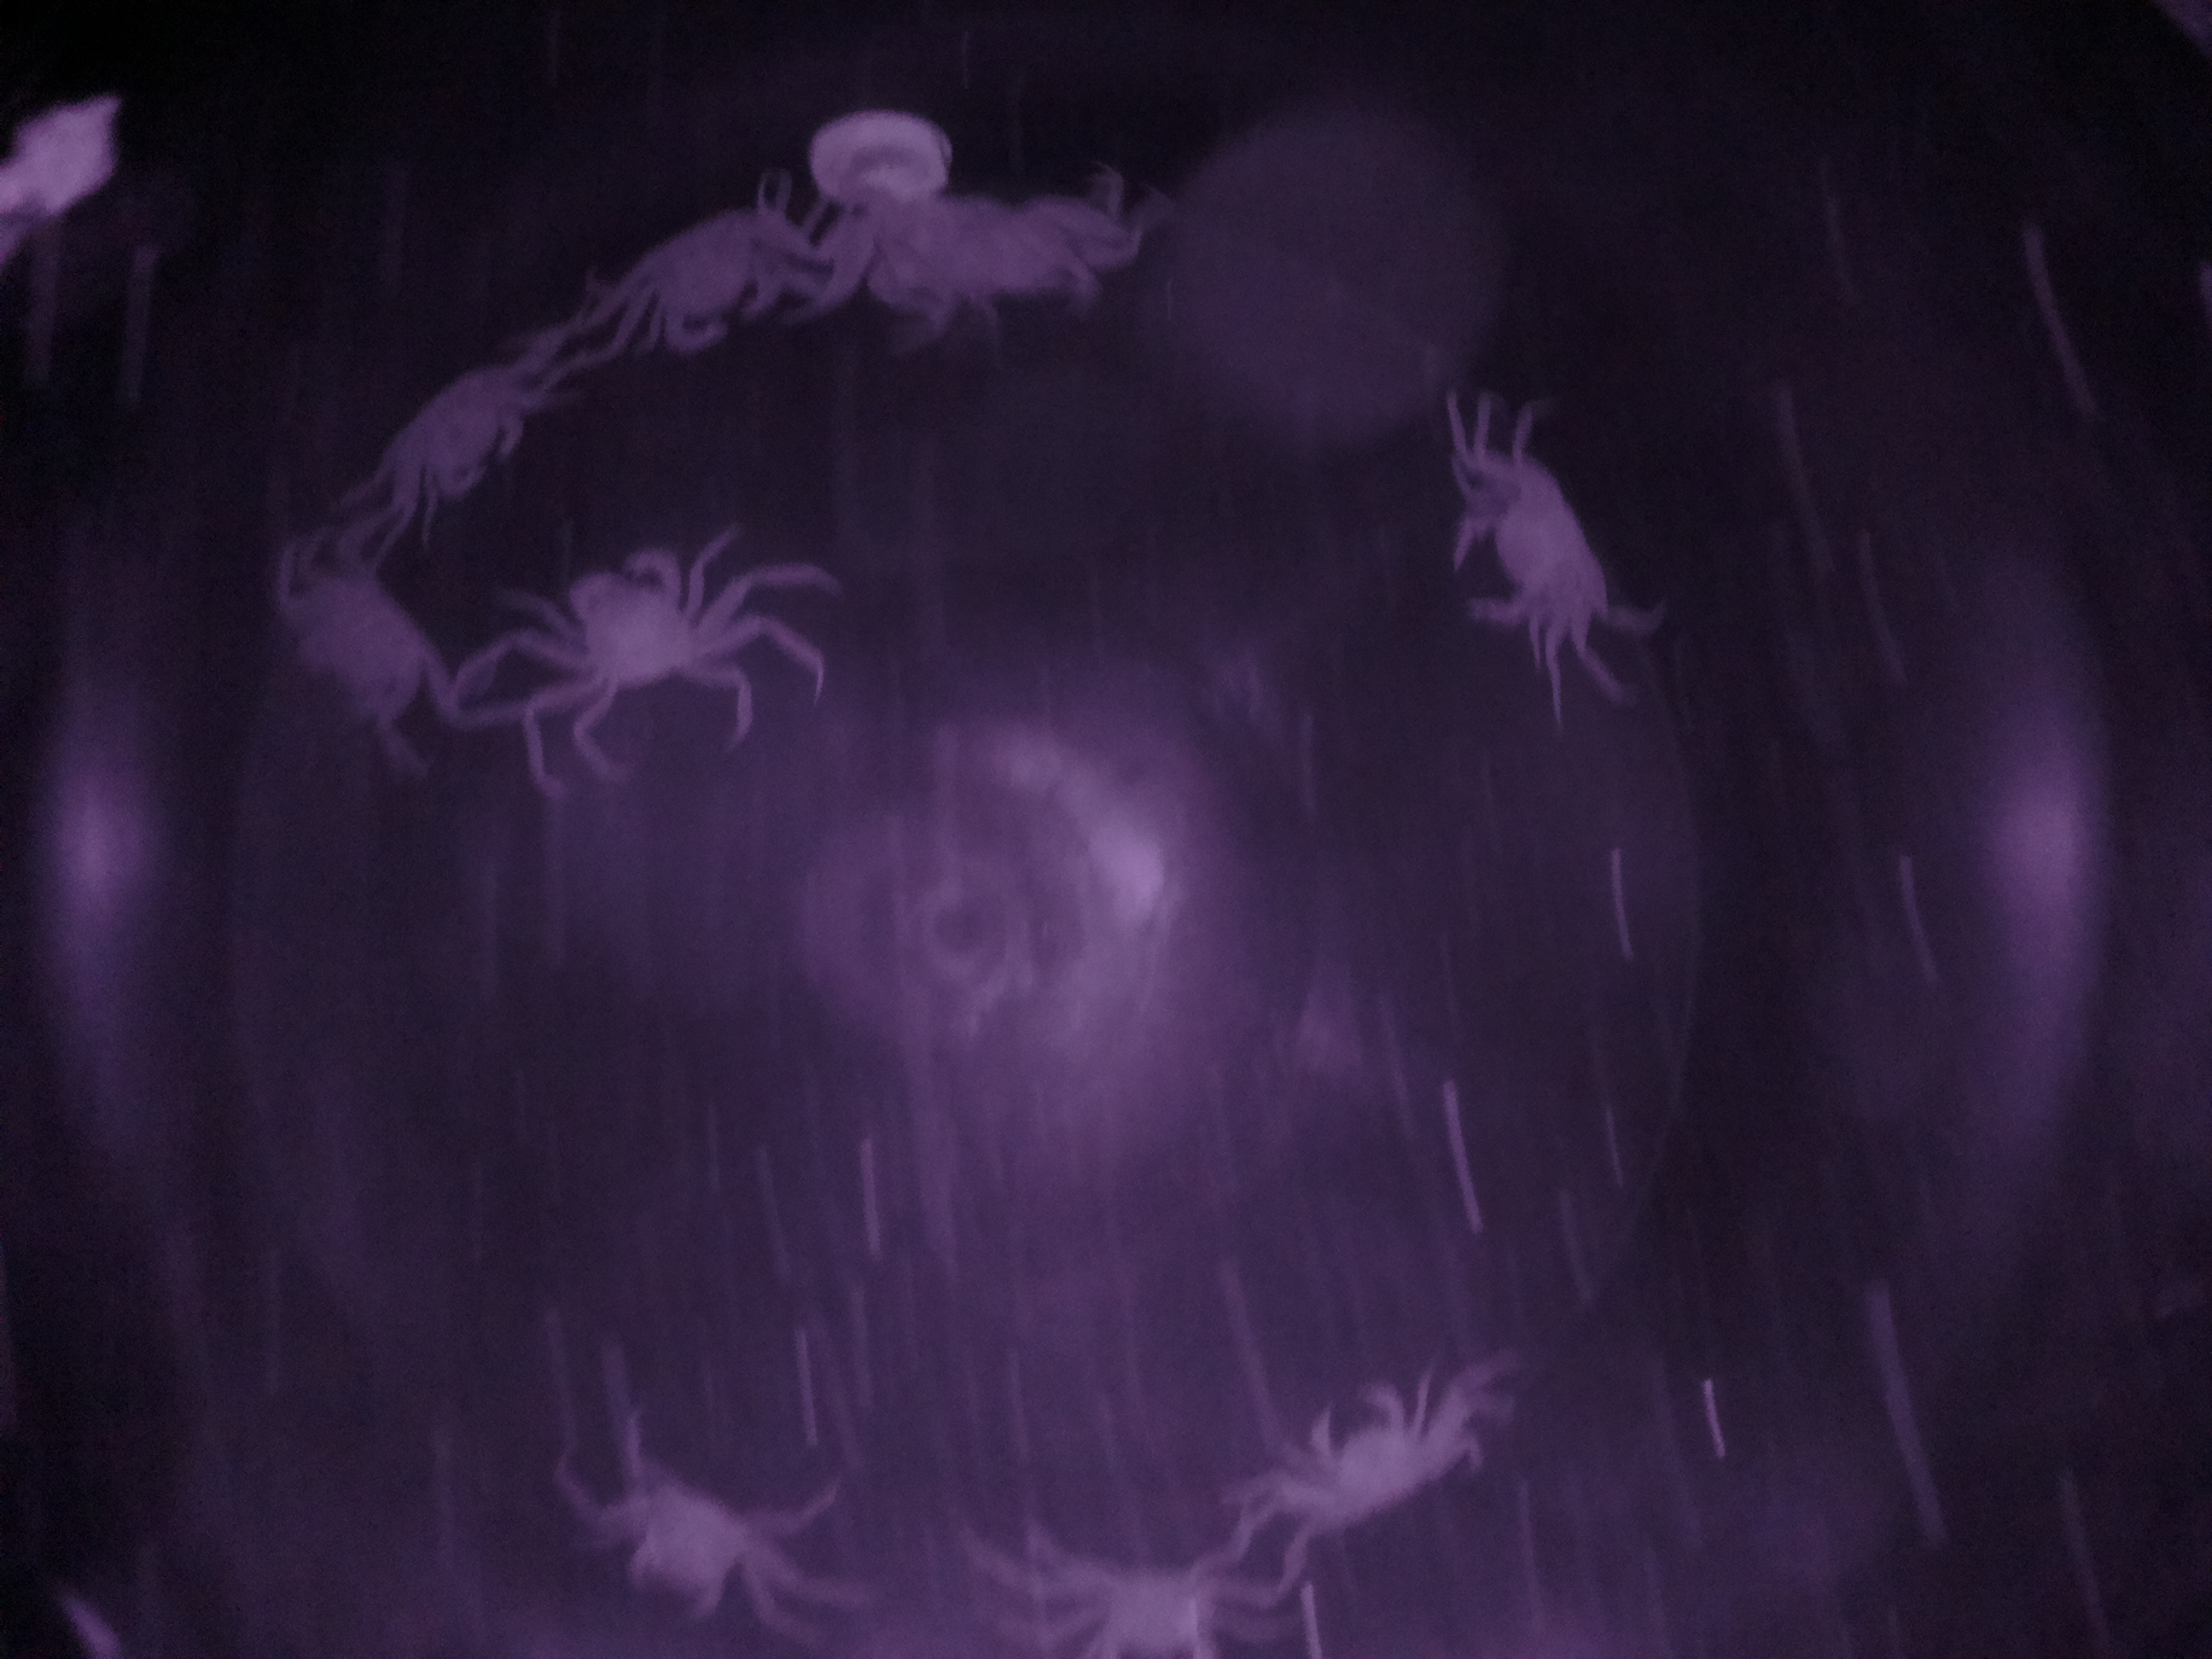Crab: (1446, 448, 1623, 659), (547, 538, 723, 709)
